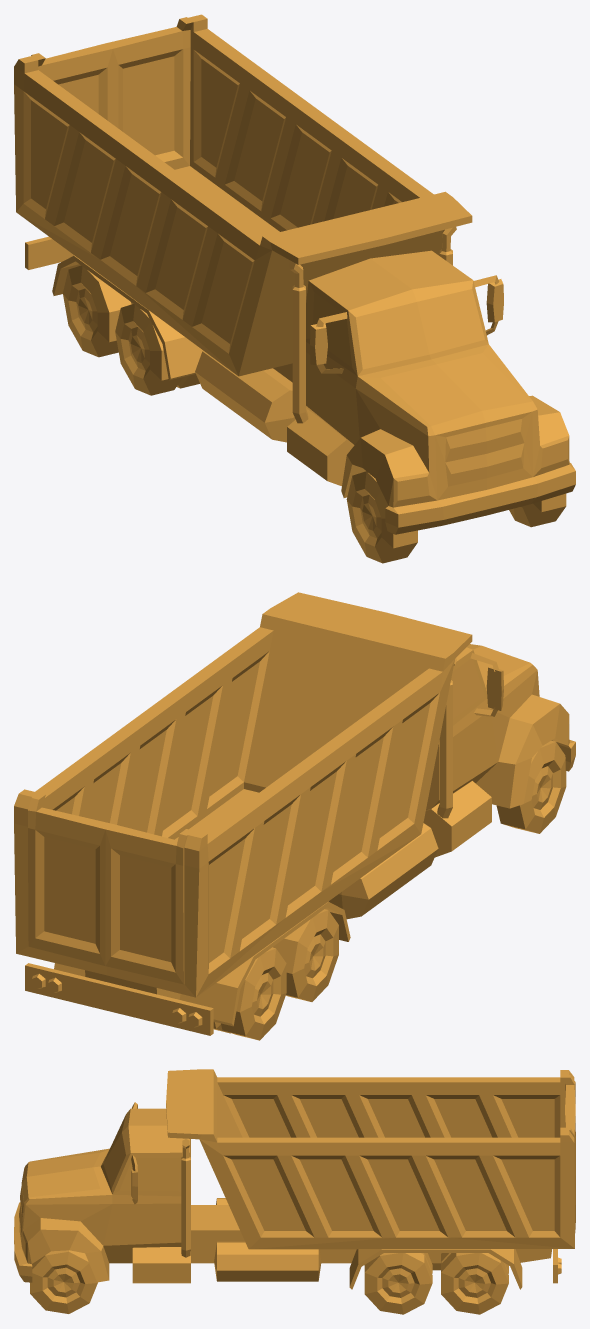
The model's file is car-truck-dump.glb.
The picture shows the model from 3 angles, top to bottom: view 1: azimuth 30°, elevation 25°; view 2: azimuth 150°, elevation 25°; view 3: azimuth 270°, elevation 25°; orthographic projection. The views are drawn at different scales.
Parts seen in each view (by area): view 1: car-truck-dump-base, car-truck-dump-wheel_BR2, car-truck-dump-wheel_BR1, car-truck-dump-wheel_FR, car-truck-dump-wheel_FL; view 2: car-truck-dump-base, car-truck-dump-wheel_BR1, car-truck-dump-wheel_BR2, car-truck-dump-wheel_FR; view 3: car-truck-dump-base, car-truck-dump-wheel_BL1, car-truck-dump-wheel_BL2, car-truck-dump-wheel_FL.
Boxes of the visible parts, x1,y1,x2,y2 form: car-truck-dump-base: (14,14,575,534); car-truck-dump-wheel_BR2: (63,265,133,357); car-truck-dump-wheel_BR1: (115,304,199,395); car-truck-dump-wheel_FR: (346,471,417,563); car-truck-dump-wheel_FL: (509,493,566,527); car-truck-dump-base: (14,592,575,1035); car-truck-dump-wheel_BR1: (272,909,338,1001); car-truck-dump-wheel_BR2: (213,947,286,1040); car-truck-dump-wheel_FR: (496,740,566,833); car-truck-dump-base: (14,1069,575,1289); car-truck-dump-wheel_BL1: (364,1253,432,1314); car-truck-dump-wheel_BL2: (441,1253,508,1314); car-truck-dump-wheel_FL: (30,1250,97,1313).
Size of the model in its own units: 2.57 by 3.19 by 8.94.
